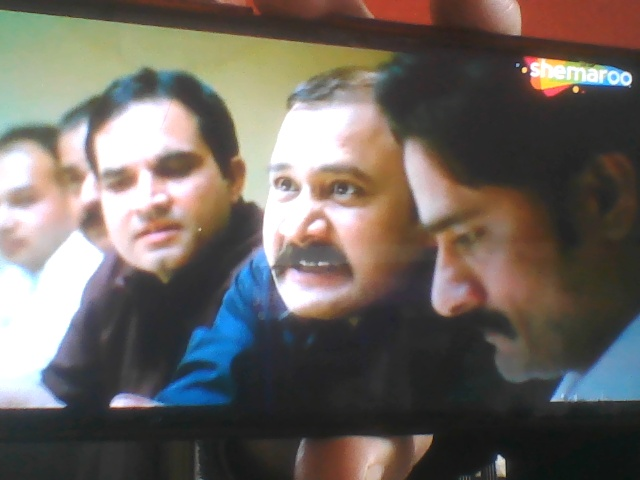fake: (233, 36, 447, 340), (84, 65, 240, 286)
